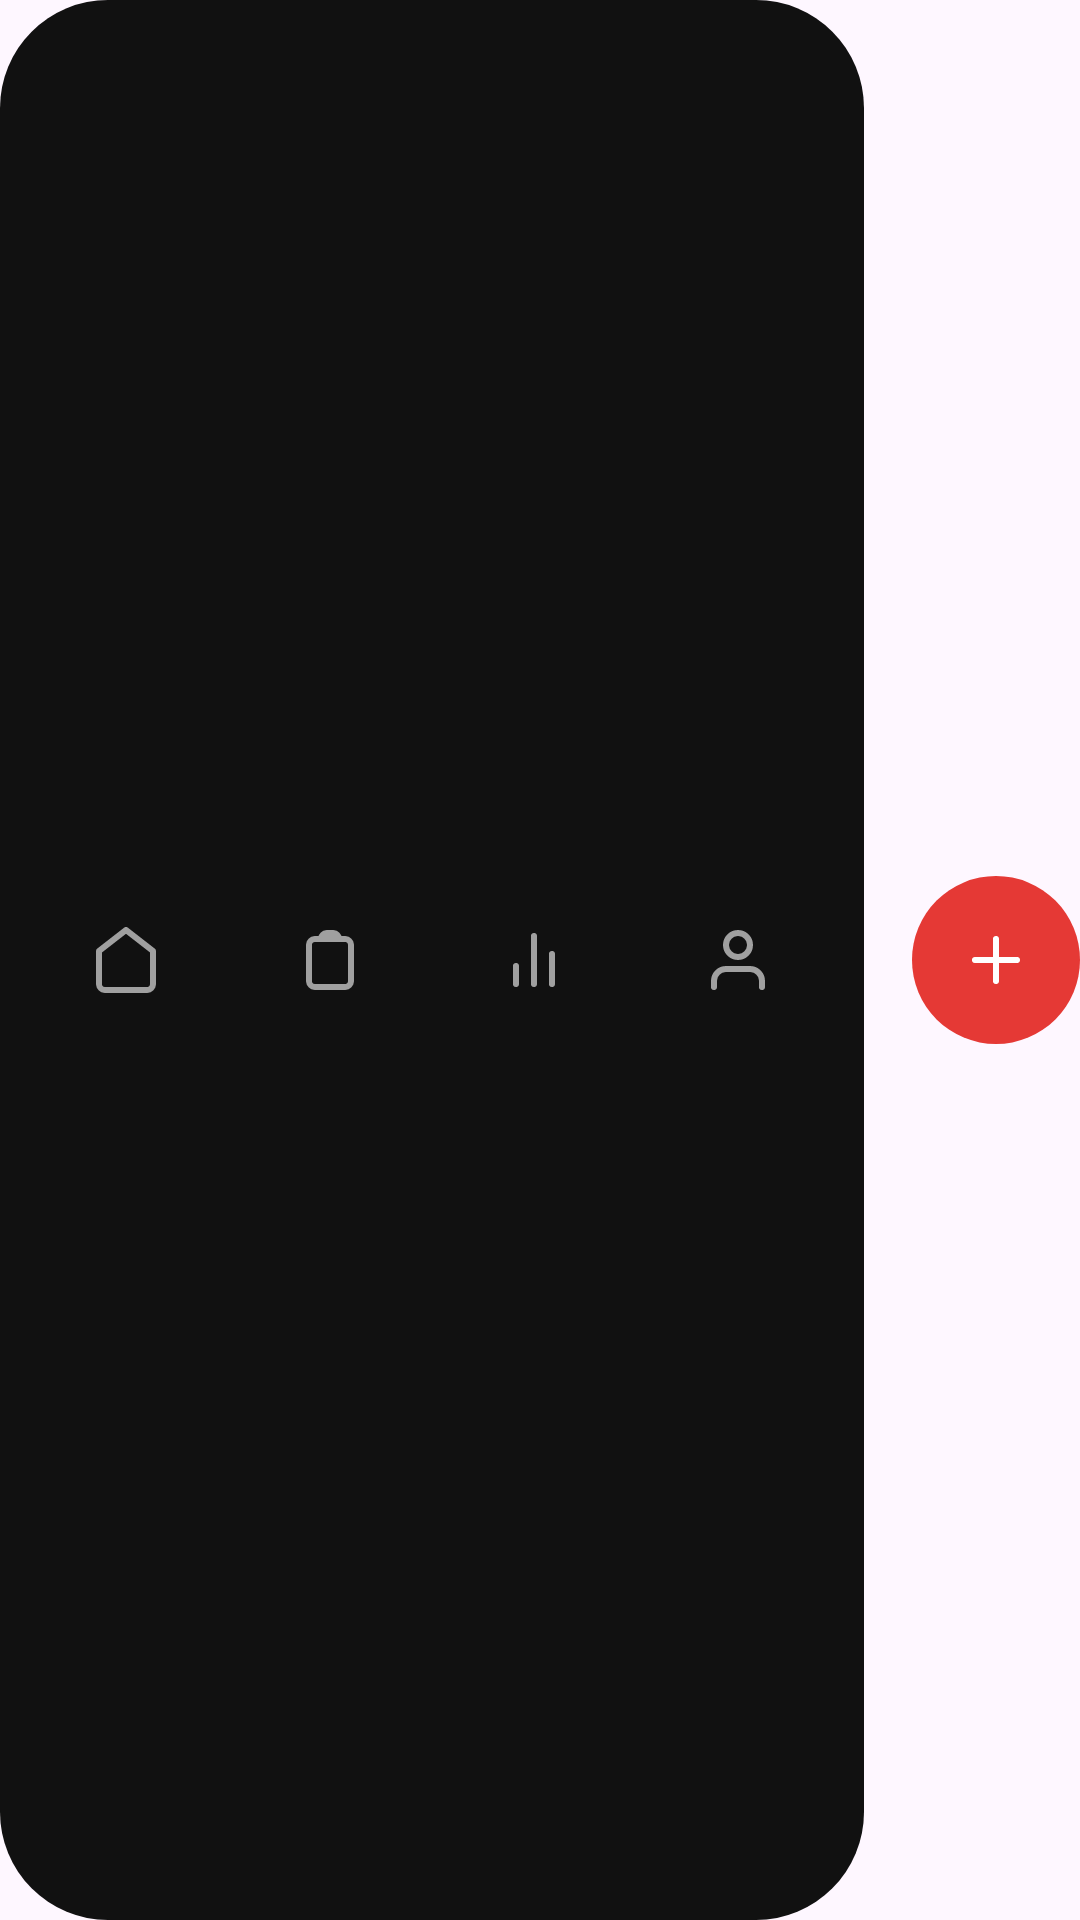

Where icons sit on this 1080w x 1920h app screen, as box=[x1, y1, x2, y2]:
add luxury: box=[912, 876, 1080, 1044]
home luxury: box=[96, 927, 156, 993]
logs pro: box=[306, 930, 354, 990]
profile luxury: box=[711, 930, 765, 990]
stats luxury: box=[513, 933, 555, 987]
